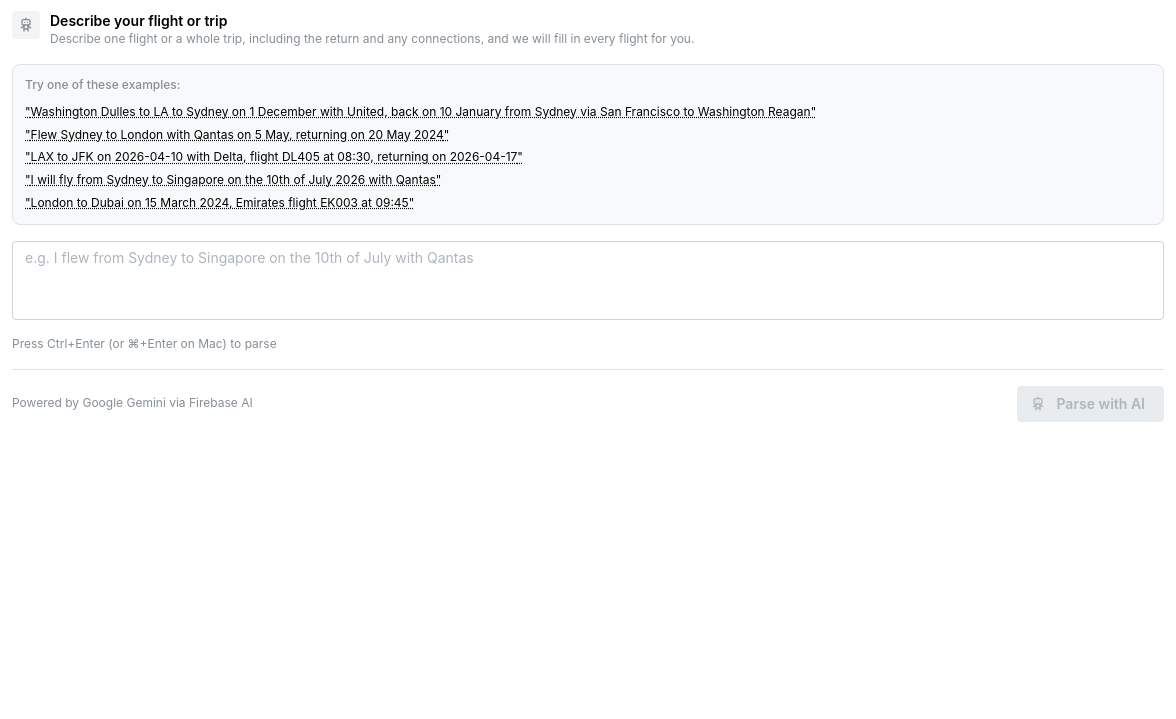
it: FlightChatInput › shows one numbered section per leg for a multi-leg trip
Type "SYD to London via Singapore" into the text box. click: (588, 280)
box: [12,241,1164,320]
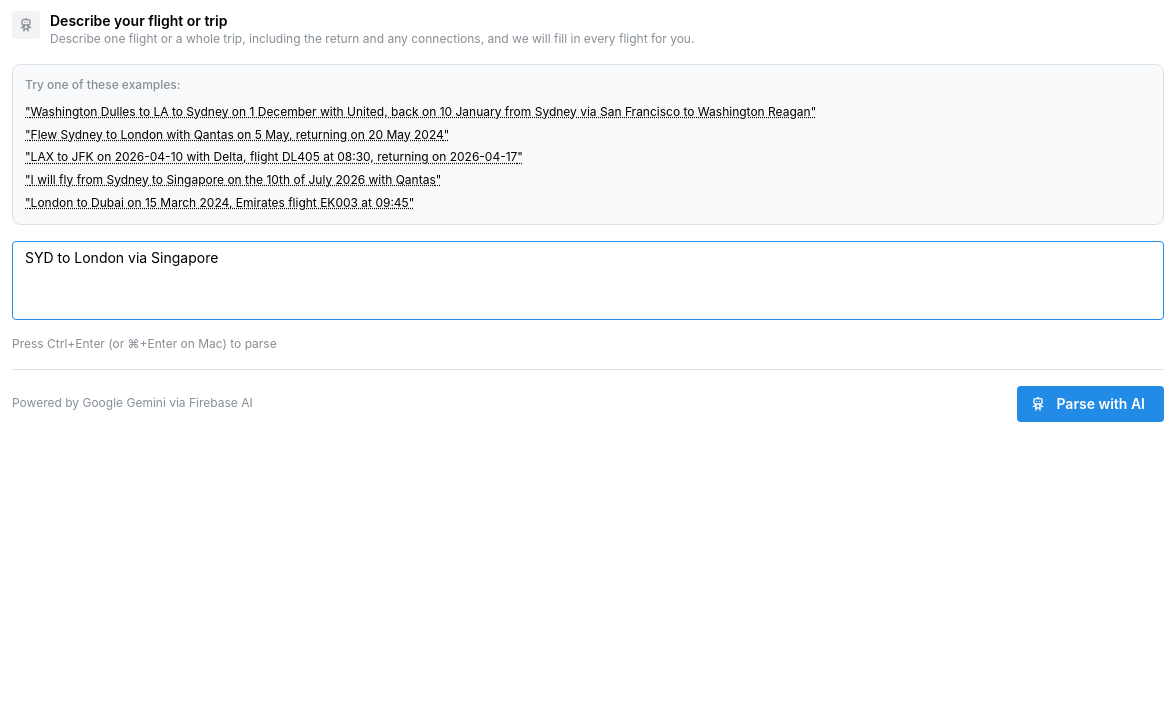
Click the button "Parse with AI". click: click(1091, 404)
box: [1018,386,1164,422]
(page scrolled)
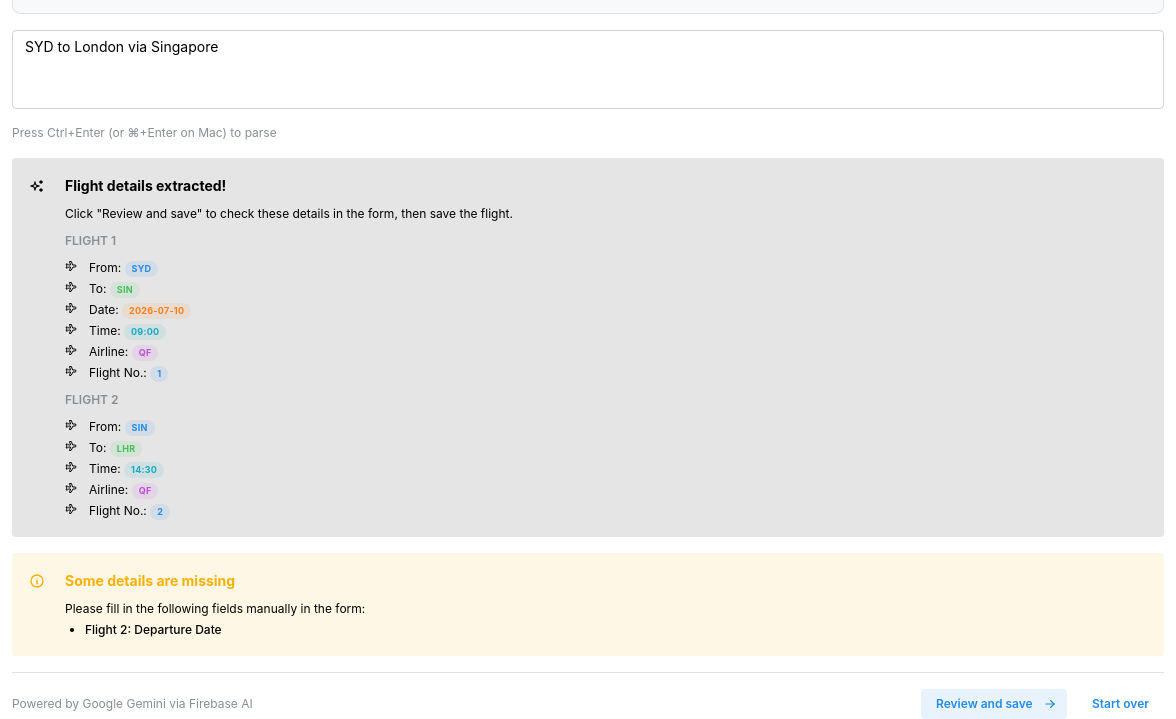
Check: the text "Flight 1" is shown, box [65,233,116,248]
Check: the text "Flight 2" is shown, box [65,392,118,407]
Check: the text "LHR" is shown, box [117,442,135,456]
